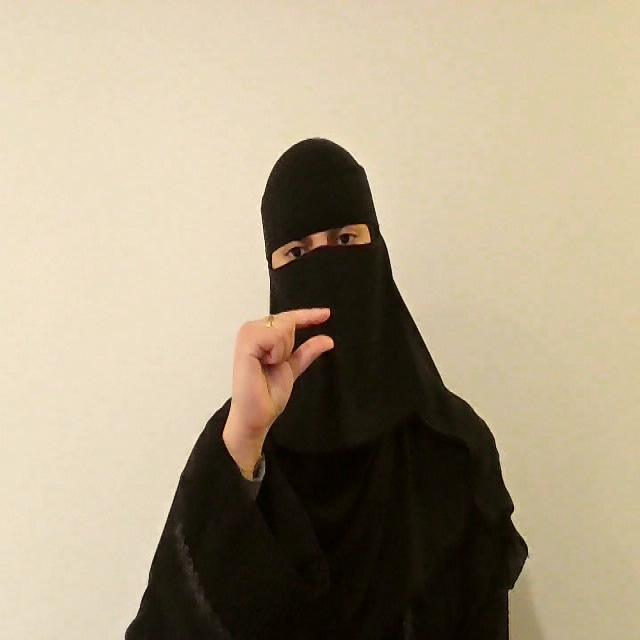fasting: (221, 304, 335, 469)
